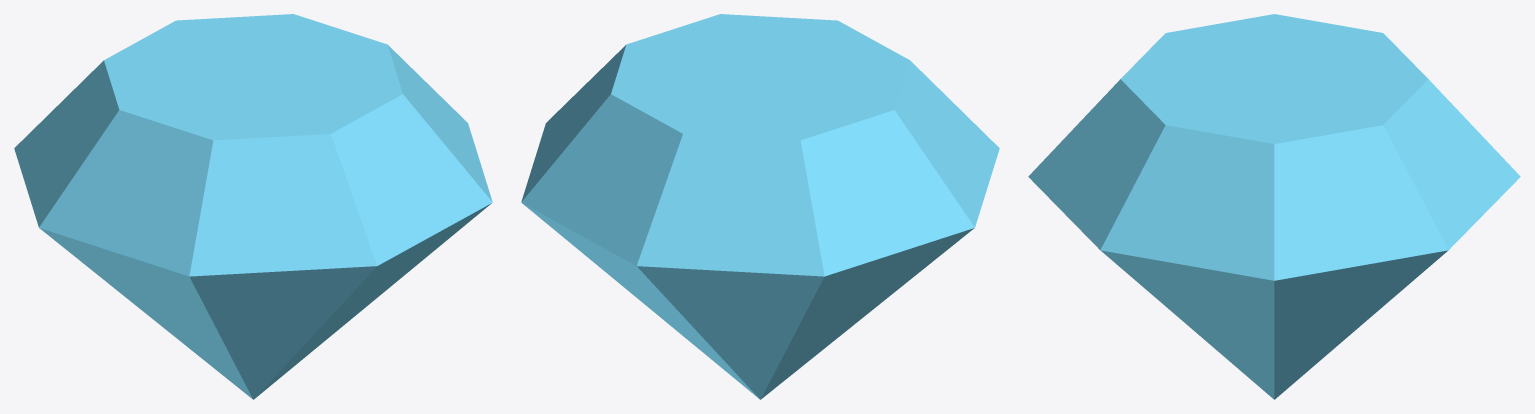
Rendered from diamond-model.gltf.
3 views of the same model, side by side, from view 1: azimuth 30°, elevation 25°; view 2: azimuth 150°, elevation 25°; view 3: azimuth 270°, elevation 25° (orthographic).
Parts seen in each view (by area): view 1: diamond-model; view 2: diamond-model; view 3: diamond-model.
Part boxes in pixels (x1,y1,x2,y2): diamond-model: [14, 14, 492, 399]; diamond-model: [521, 14, 999, 399]; diamond-model: [1028, 14, 1520, 399].
Size of the model in its own units: 1.6 by 1.15 by 1.6.
